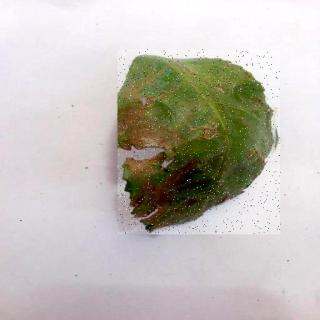Algal Leaf: (119, 51, 282, 236)
